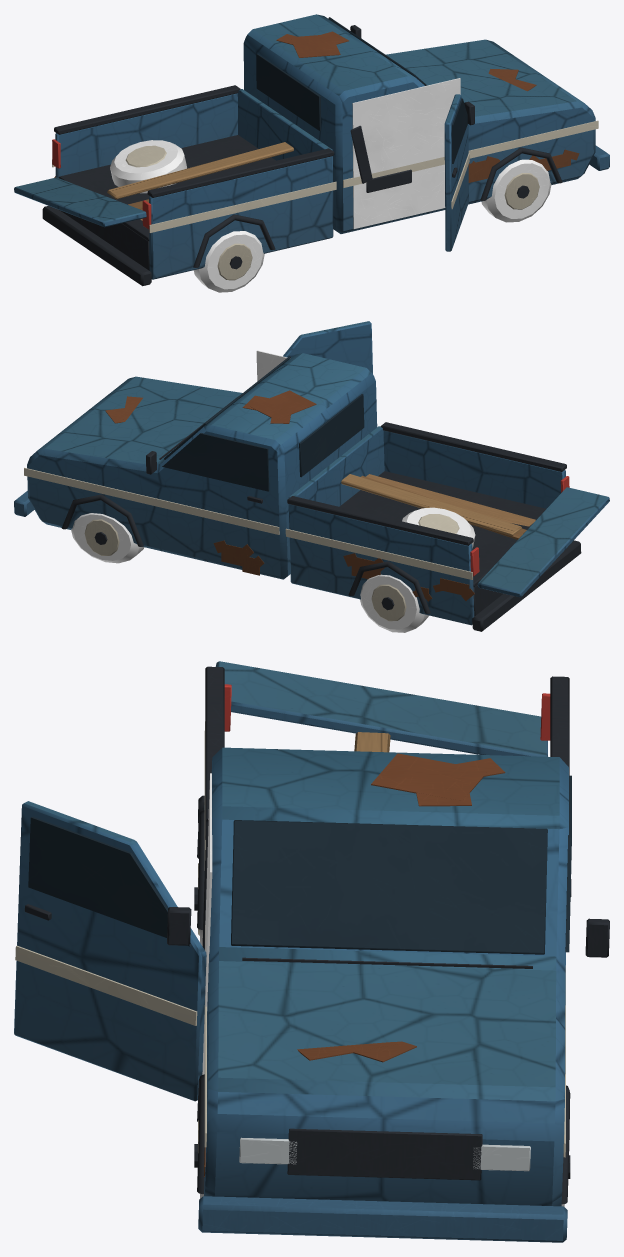
File: pickup_wreck.glb
3 renders of one model, top to bottom at view 1: azimuth 30°, elevation 25°; view 2: azimuth 150°, elevation 25°; view 3: azimuth 270°, elevation 25°, orthographic. The views are drawn at different scales.
Parts seen in each view (by area): view 1: pickup_wreck; view 2: pickup_wreck; view 3: pickup_wreck.
Part boxes in pixels (box(x1,y1,x2,y2)): pickup_wreck: box(14, 14, 609, 292); pickup_wreck: box(14, 321, 609, 632); pickup_wreck: box(14, 661, 609, 1242).
Size of the model in its own units: 5.52 by 1.79 by 3.07.
17 materials, 17 textured.
